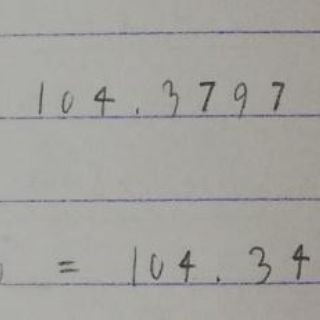.: (133, 103, 142, 117), (211, 274, 223, 284)
0: (148, 251, 165, 282), (60, 89, 75, 115)
1: (130, 245, 138, 288), (36, 79, 45, 116)
3: (247, 244, 274, 286), (160, 78, 180, 119)
4: (290, 242, 311, 283), (93, 85, 117, 117), (176, 249, 196, 285)
7: (198, 79, 217, 113), (270, 80, 287, 113)
9: (233, 81, 249, 118)
